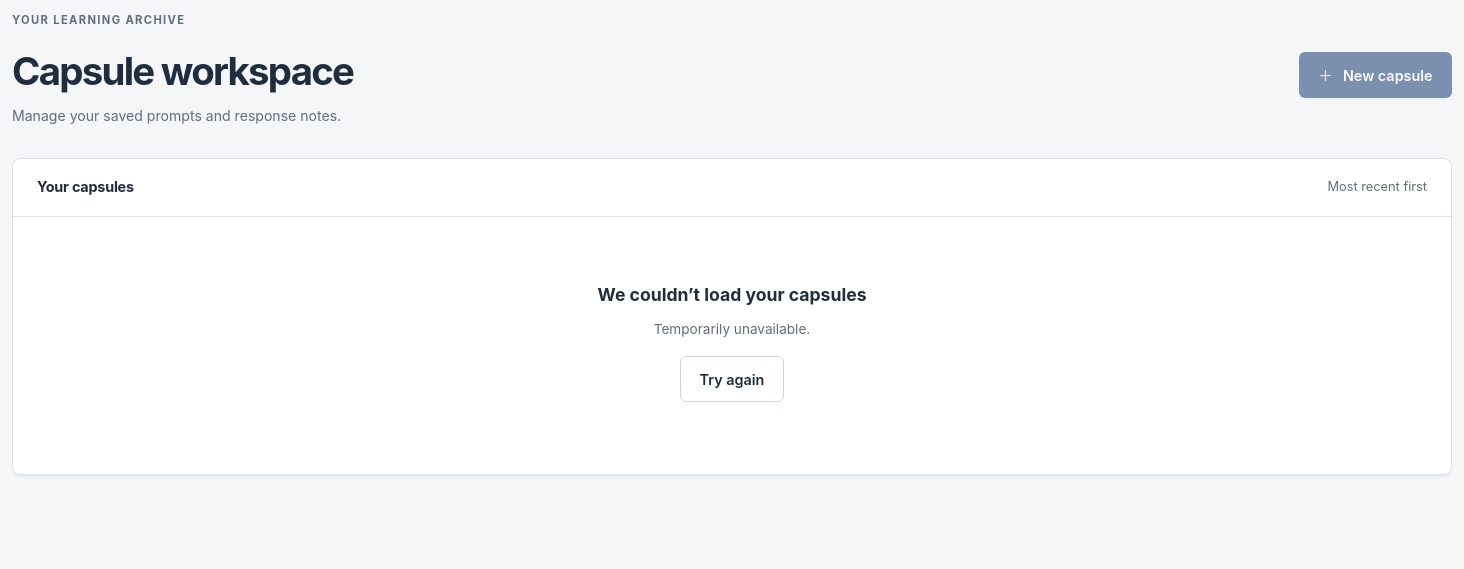
Test: capsule workspace › shows a recoverable loading failure and retries
expect the message reads "Temporarily unavailable.": met, box [654, 321, 810, 337]
Click the button "Try again".
click(732, 379)  # box [680, 356, 784, 402]
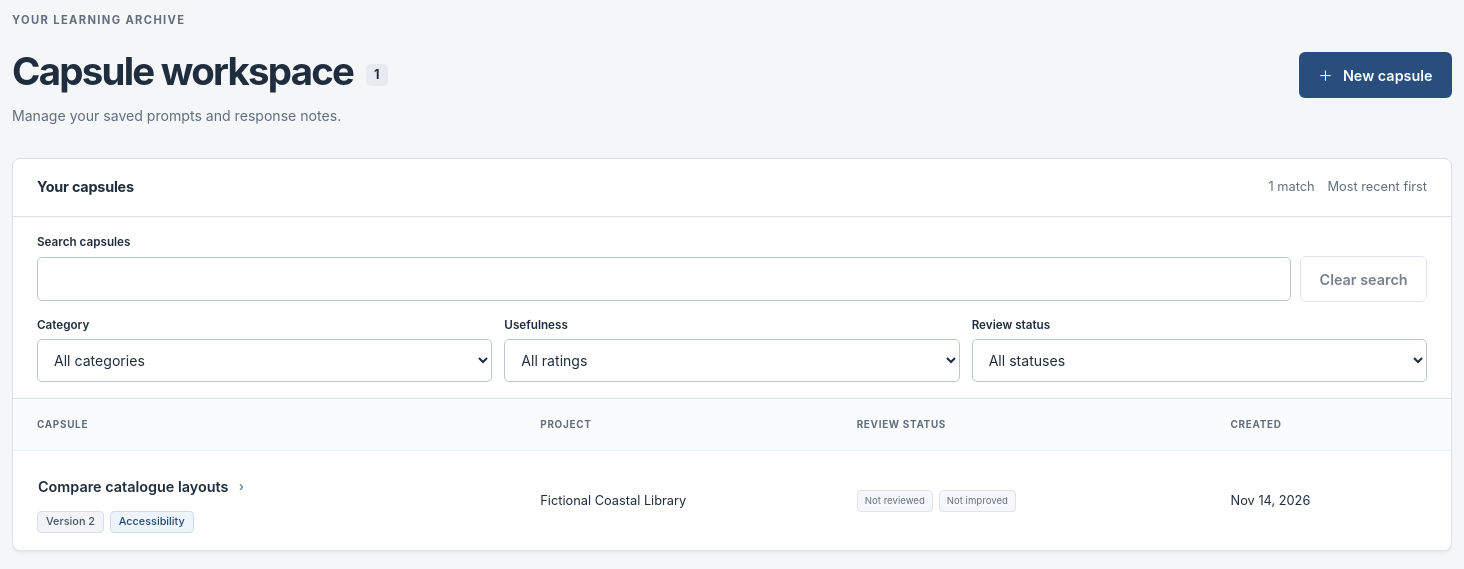
expect the button "Compare catalogue layouts ›" is shown: met, box [37, 469, 245, 505]
